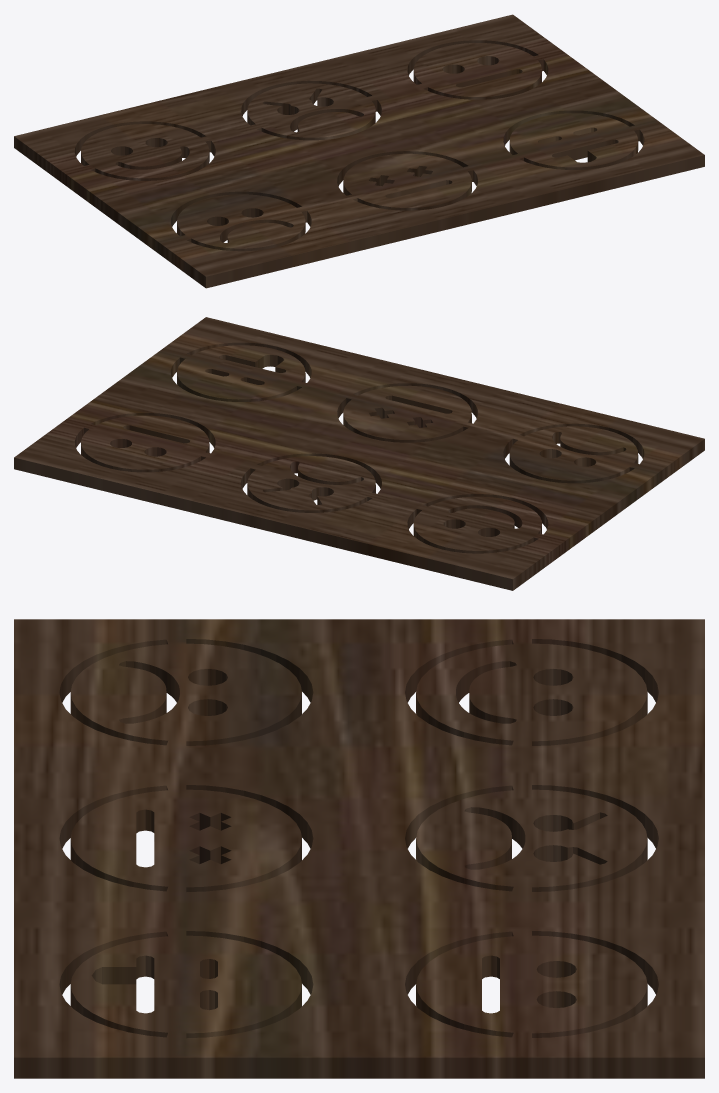
Rendered from wallnut.glb.
3 renders of one model, top to bottom at view 1: azimuth 30°, elevation 25°; view 2: azimuth 150°, elevation 25°; view 3: azimuth 270°, elevation 25°, orthographic. The views are drawn at different scales.
Bounding box in the file's own units: 0.118 × 0.00264 × 0.0787.
Materials: 1 (1 with a texture image).
